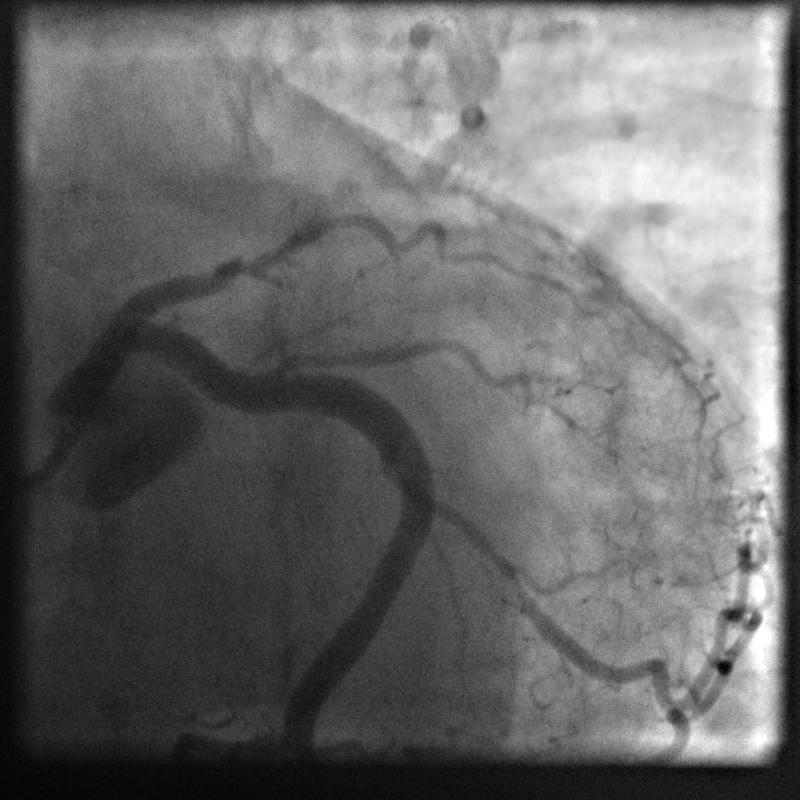Stenosis: (431, 493, 540, 611)
